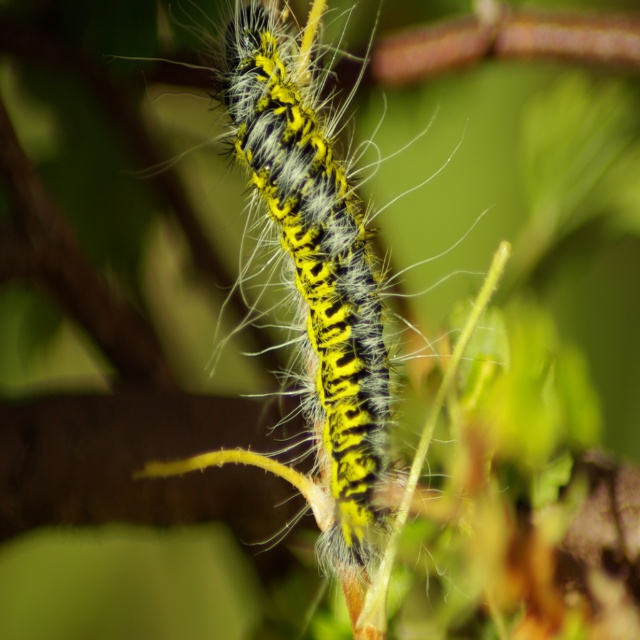Caterpillar: (112, 0, 500, 617)
